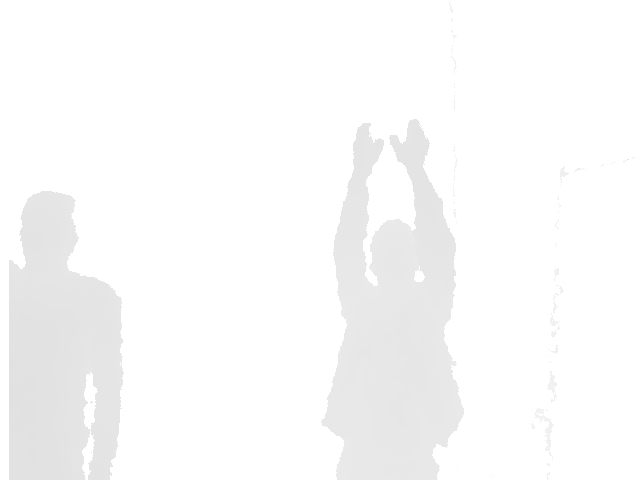hand: (389, 118, 428, 173), (352, 122, 384, 175)
head: (19, 190, 77, 274), (370, 218, 421, 288)
person: (319, 119, 467, 479), (8, 191, 123, 480)
